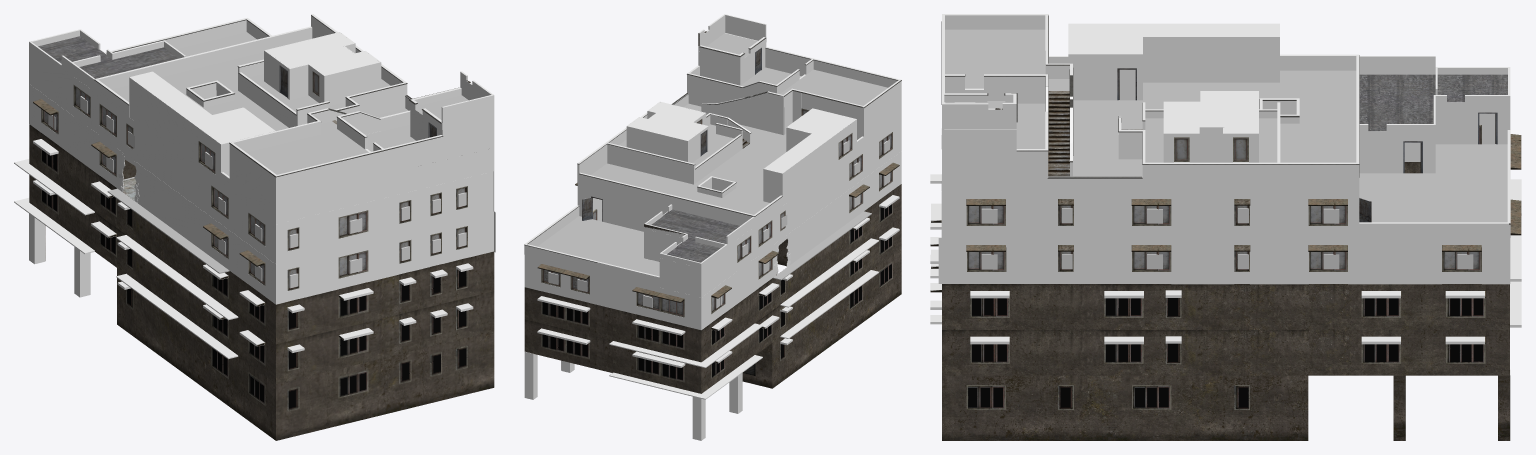
Rendered from A2_ExteriorStructure.fbx.
3 views of the same model, side by side, from view 1: azimuth 30°, elevation 25°; view 2: azimuth 150°, elevation 25°; view 3: azimuth 270°, elevation 25° (orthographic). The views are drawn at different scales.
Parts seen in each view (by area): view 1: Apt2_HDBase, RoofExt_Struct, RoofExterior_Ground, Cube (24) (×4), Cube (39), Cube (26) (×3), Cube (27) (×2), Cube (14), Cube (42) (×3), Cube (51), Cube (129), Cube (31) (+37 smaller); view 2: Apt2_HDBase, RoofExterior_Ground, RoofExt_Struct, Cube (26) (×2), Cube (62), Cube (114), Cube (28) (×2), Cube (51), Cube (129), Cube (31), Cube (24) (×2), Cube (1) (×2) (+44 smaller); view 3: Apt2_HDBase, RoofExterior_Ground, RoofExt_Struct, Cube (26) (×2), Cube (48), Cube (27) (×2), Cube (24) (×2), Cube (61), Cube (59), Cube (29), Cube (23), Cube (28) (+26 smaller).
Part boxes in pixels (<box>): Apt2_HDBase: <box>29,124,494,440</box>; RoofExt_Struct: <box>33,15,470,290</box>; RoofExterior_Ground: <box>111,32,468,174</box>; Cube (24) (×4): <box>116,171,493,359</box>; Cube (39): <box>275,167,416,225</box>; Cube (26) (×3): <box>228,195,399,283</box>; Cube (27) (×2): <box>299,209,338,298</box>; Cube (14): <box>275,149,385,200</box>; Cube (42) (×3): <box>229,167,430,270</box>; Cube (51): <box>129,78,188,160</box>; Cube (129): <box>133,121,188,199</box>; Cube (31): <box>158,178,211,256</box>; Apt2_HDBase: <box>524,184,901,393</box>; RoofExterior_Ground: <box>538,33,887,276</box>; RoofExt_Struct: <box>524,31,901,317</box>; Cube (26) (×2): <box>590,168,878,314</box>; Cube (62): <box>607,142,695,184</box>; Cube (114): <box>603,189,667,231</box>; Cube (28) (×2): <box>684,257,758,330</box>; Cube (51): <box>783,138,830,205</box>; Cube (129): <box>785,171,830,235</box>; Cube (31): <box>806,190,849,252</box>; Cube (24) (×2): <box>524,255,879,338</box>; Cube (1) (×2): <box>724,14,766,413</box>; Apt2_HDBase: <box>930,162,1509,440</box>; RoofExterior_Ground: <box>945,29,1507,222</box>; RoofExt_Struct: <box>941,15,1521,271</box>; Cube (26) (×2): <box>1006,192,1441,284</box>; Cube (48): <box>1143,36,1279,82</box>; Cube (27) (×2): <box>1074,192,1509,284</box>; Cube (24) (×2): <box>941,192,1308,284</box>; Cube (61): <box>1234,162,1359,192</box>; Cube (59): <box>1142,162,1239,192</box>; Cube (29): <box>1171,192,1234,237</box>; Cube (23): <box>1171,238,1234,284</box>; Cube (28): <box>1250,192,1308,237</box>.
Bounding box in the file's own units: 19.89 × 23.48 × 37.32.
